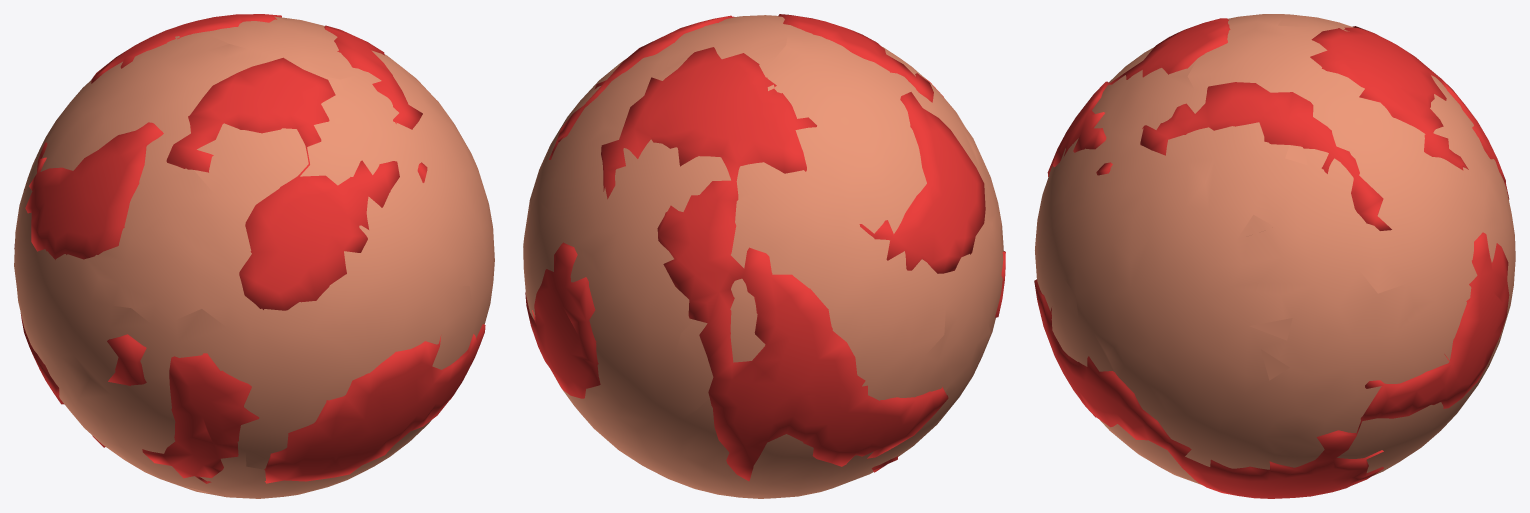
File: planetesBoids.gltf
The picture shows the model from 3 angles, left to right: view 1: azimuth 30°, elevation 25°; view 2: azimuth 150°, elevation 25°; view 3: azimuth 270°, elevation 25°; orthographic projection.
Parts seen in each view (by area): view 1: Sphere.001, Sphere; view 2: Sphere.001, Sphere; view 3: Sphere.001, Sphere.
Boxes of the visible parts, x1,y1,x2,y2 form: Sphere.001: [14, 16, 494, 498]; Sphere: [14, 14, 485, 483]; Sphere.001: [523, 15, 1003, 498]; Sphere: [525, 14, 1005, 481]; Sphere.001: [1035, 14, 1515, 485]; Sphere: [1034, 18, 1509, 498].
Bounding box in the file's own units: 2.06 × 2.07 × 2.06.
2 materials, 2 textured.
